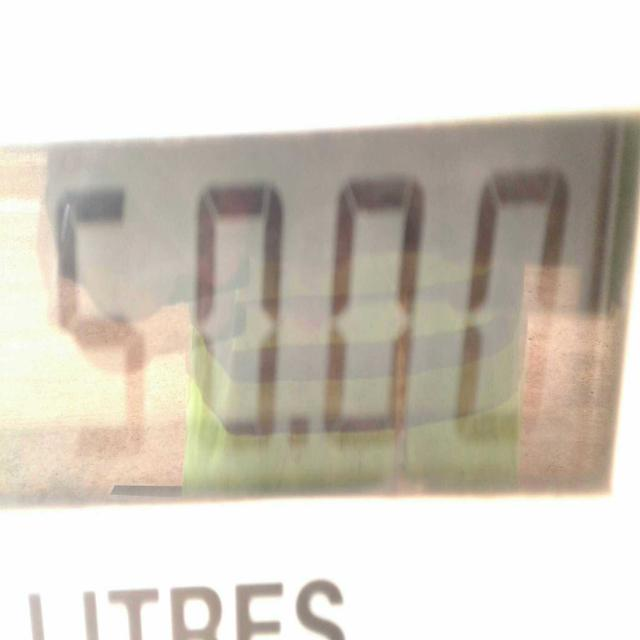.: (292, 416, 308, 452)
0: (464, 174, 562, 433), (332, 181, 419, 436), (191, 188, 278, 441)
5: (56, 194, 150, 456)
